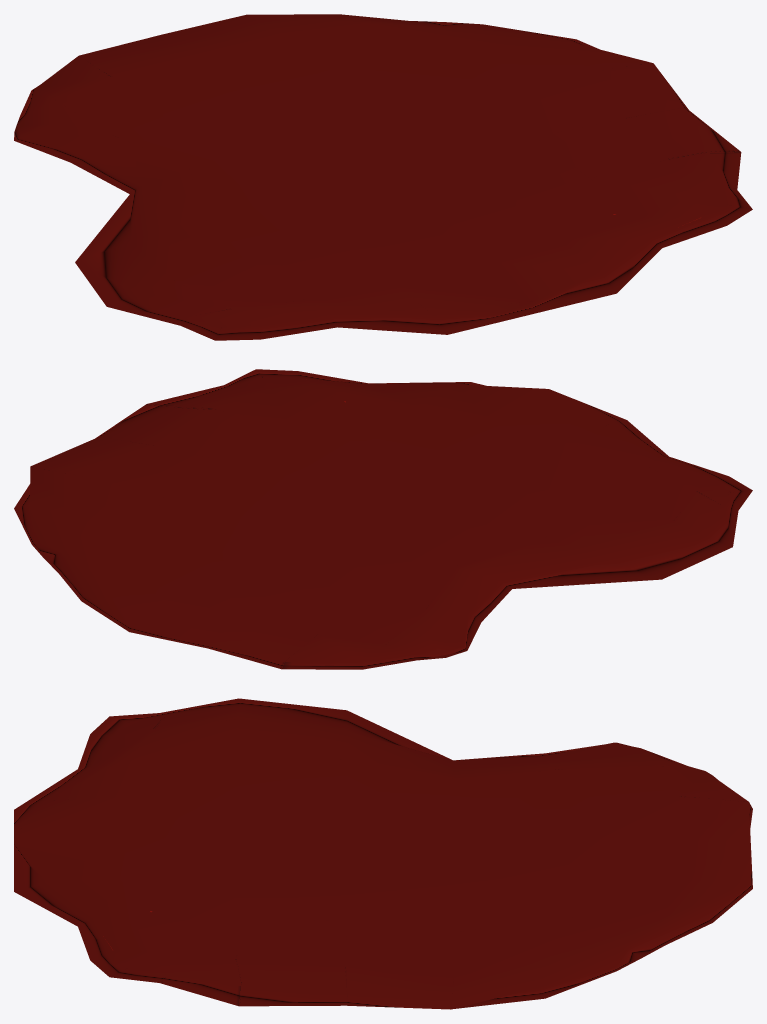
File: PoolOfBlood.fbx
The picture shows the model from 3 angles, top to bottom: view 1: azimuth 30°, elevation 25°; view 2: azimuth 150°, elevation 25°; view 3: azimuth 270°, elevation 25°; orthographic projection. The views are drawn at different scales.
Visible parts, largest first — view 1: Cube; view 2: Cube; view 3: Cube.
Part boxes in pixels (bbox=[...]): Cube: bbox=[14, 14, 752, 340]; Cube: bbox=[14, 369, 752, 669]; Cube: bbox=[14, 698, 752, 1009].
Size of the model in its own units: 232 by 4.42 by 229.
